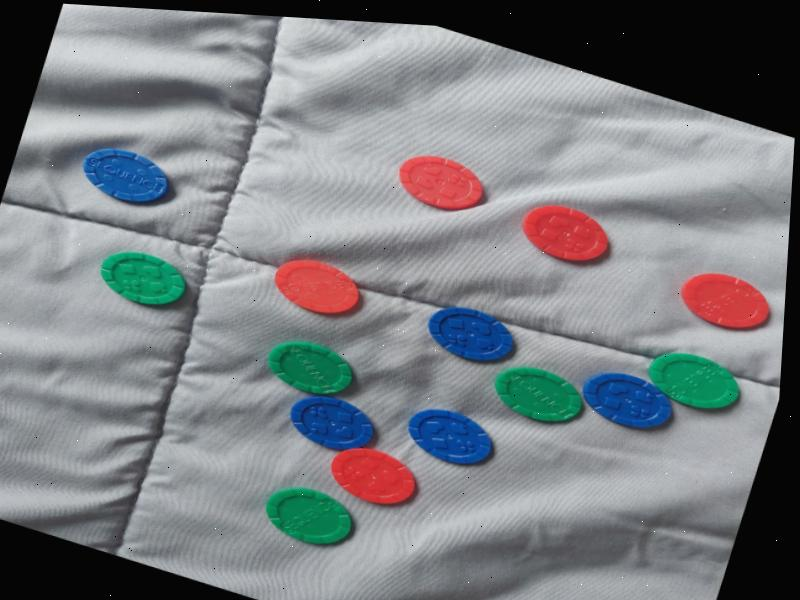Blue_Token: (566, 357, 690, 449), (67, 131, 186, 222), (390, 394, 510, 484), (411, 290, 528, 378), (285, 385, 387, 464)
Green_Token: (76, 232, 211, 326), (244, 470, 374, 564), (474, 351, 602, 444), (631, 336, 760, 424), (250, 328, 373, 409)
Red_Token: (657, 252, 787, 349), (498, 186, 624, 278), (314, 434, 439, 524), (256, 244, 377, 332), (383, 139, 498, 224)
